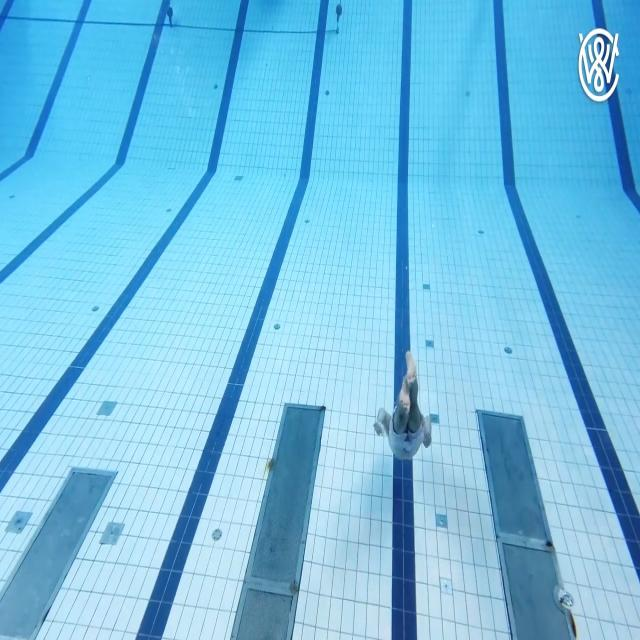Swimming: (373, 348, 431, 466)
